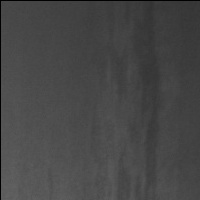inclusion: (108, 3, 162, 200)
